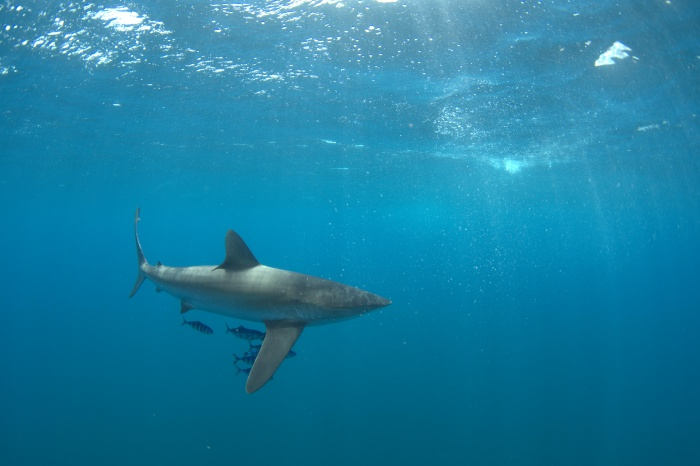Mako: (106, 198, 394, 399)
